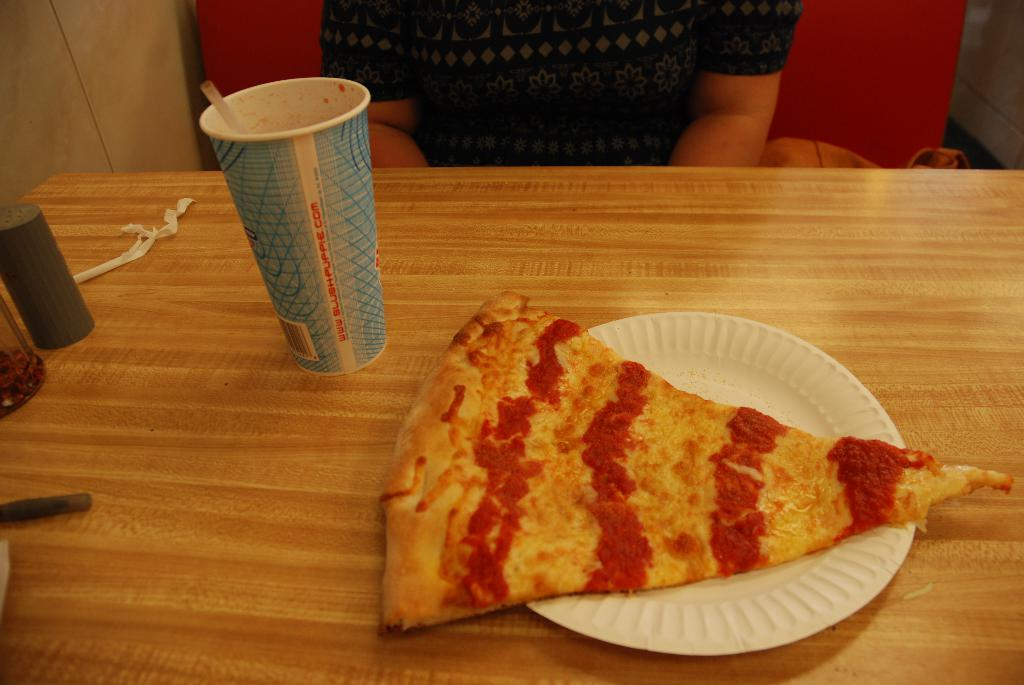Pizza: (382, 313, 891, 658)
